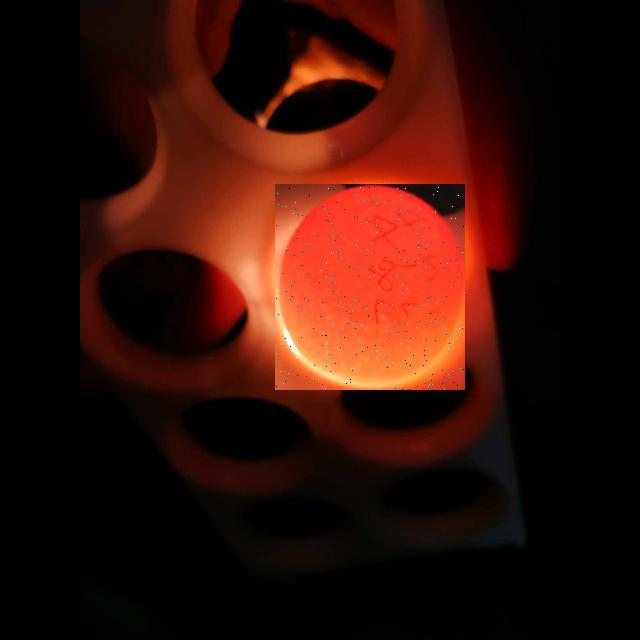Infertile: (275, 184, 465, 390)
